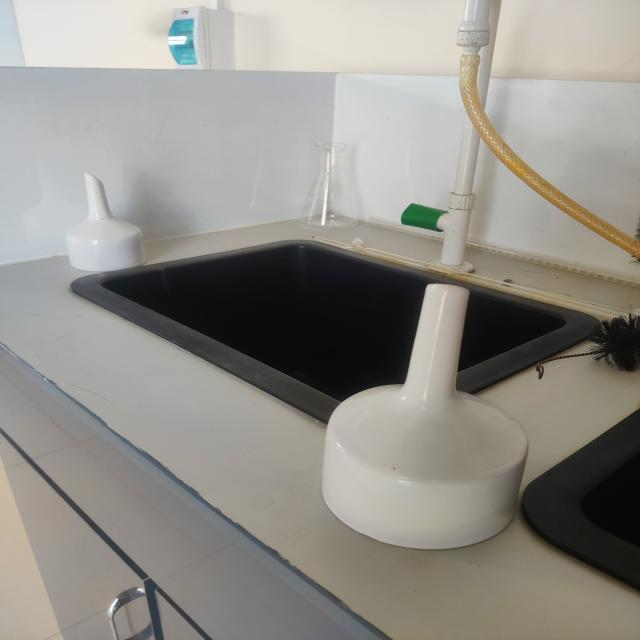Buchner_Funnel: (299, 259, 550, 577), (30, 149, 183, 301)
